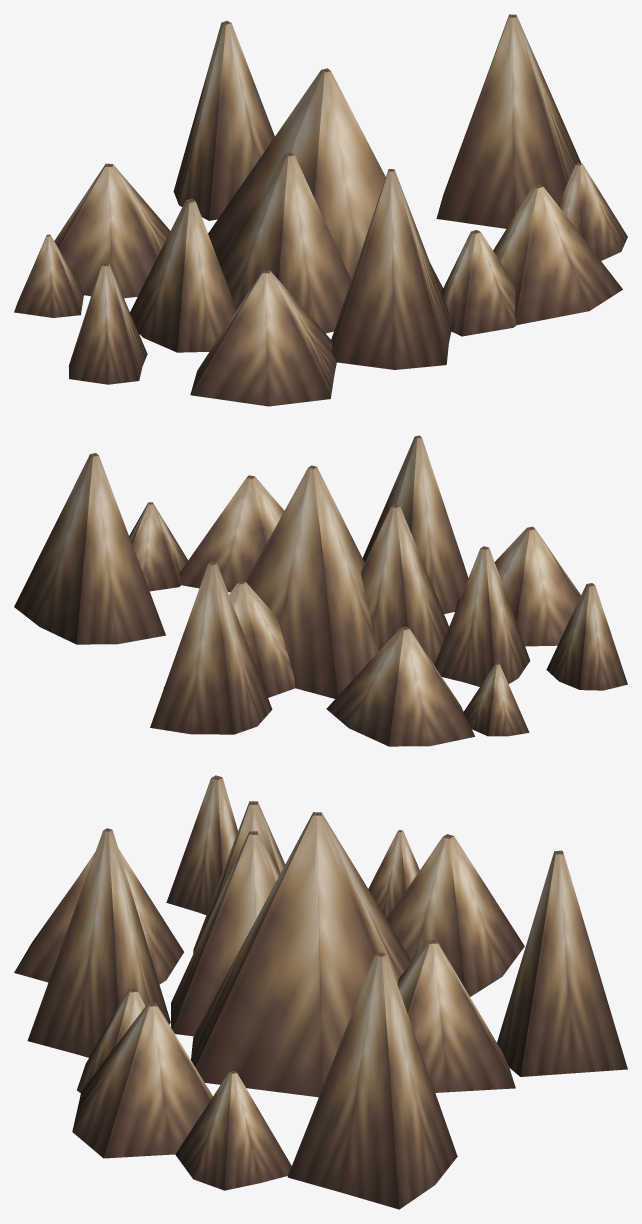
Rendered from Poly_World_Map_Mountain_Brown_03.obj.
3 views of the same model, one above another, from view 1: azimuth 30°, elevation 25°; view 2: azimuth 150°, elevation 25°; view 3: azimuth 270°, elevation 25° (orthographic). The views are drawn at different scales.
Parts seen in each view (by area): view 1: Cube_Cube.003, Cube_Cube.011, Cube_Cube.001, Cube_Cube.006, Cube_Cube.008, Cube_Cube.013, Cube_Cube.002, Cube_Cube.010, Cube_Cube.004, Cube_Cube.005, Cube_Cube.014, Cube_Cube.009 (+1 smaller); view 2: Cube_Cube.001, Cube_Cube.003, Cube_Cube.013, Cube_Cube.004, Cube_Cube.008, Cube_Cube.010, Cube_Cube.011, Cube_Cube.006, Cube_Cube.002, Cube_Cube.005, Cube_Cube.007, Cube_Cube.012 (+1 smaller); view 3: Cube_Cube.001, Cube_Cube.003, Cube_Cube.013, Cube_Cube.011, Cube_Cube.002, Cube_Cube.004, Cube_Cube.007, Cube_Cube.008, Cube_Cube.012, Cube_Cube.006, Cube_Cube.005, Cube_Cube.009 (+2 smaller).
Boxes of the visible parts, x1,y1,x2,y2 form: Cube_Cube.003: (436,14,580,228); Cube_Cube.011: (331,169,451,369); Cube_Cube.001: (208,68,443,291); Cube_Cube.006: (190,270,336,406); Cube_Cube.008: (220,152,350,333); Cube_Cube.013: (173,20,274,220); Cube_Cube.002: (493,184,622,324); Cube_Cube.010: (130,198,236,352); Cube_Cube.004: (54,163,170,298); Cube_Cube.005: (68,263,147,384); Cube_Cube.014: (441,230,516,336); Cube_Cube.009: (14,234,83,317); Cube_Cube.001: (246,465,377,698); Cube_Cube.003: (14,453,165,644); Cube_Cube.013: (150,561,272,734); Cube_Cube.004: (326,626,474,746); Cube_Cube.008: (361,504,448,664); Cube_Cube.010: (434,546,530,686); Cube_Cube.011: (362,435,468,613); Cube_Cube.006: (454,526,580,646); Cube_Cube.002: (179,475,284,592); Cube_Cube.005: (546,583,627,690); Cube_Cube.007: (163,580,295,697); Cube_Cube.012: (129,502,187,591); Cube_Cube.001: (191,812,411,1097); Cube_Cube.003: (287,952,457,1209); Cube_Cube.013: (497,850,627,1076); Cube_Cube.011: (27,828,170,1057); Cube_Cube.002: (72,1002,212,1158); Cube_Cube.004: (386,834,524,996); Cube_Cube.007: (397,940,515,1092); Cube_Cube.008: (171,831,279,1036); Cube_Cube.012: (175,1071,291,1190); Cube_Cube.006: (14,848,183,984); Cube_Cube.005: (166,775,237,914); Cube_Cube.009: (368,830,419,918).
Size of the model in its own units: 1.77 by 0.567 by 1.37.
Materials: 1 (1 with a texture image).
